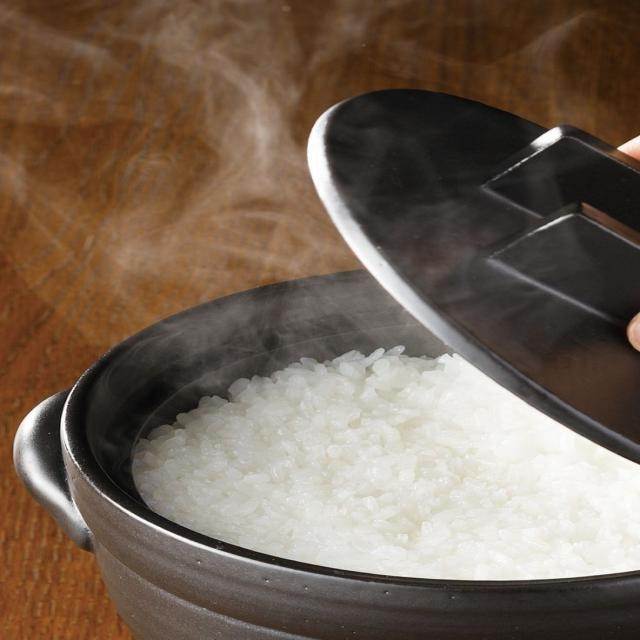rice: (134, 348, 639, 579)
